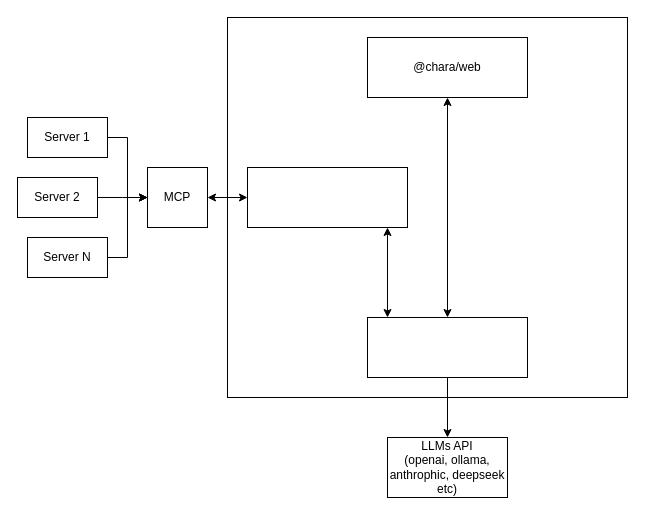
The diagram is 645 pixels wide and 515 high, and some of its shapes have lost their labels. Each missing label, with the box of its shape:
@chara/cli: (246, 166, 408, 228)
@chara/server: (366, 316, 528, 378)
Chara Codes: (226, 16, 628, 398)
